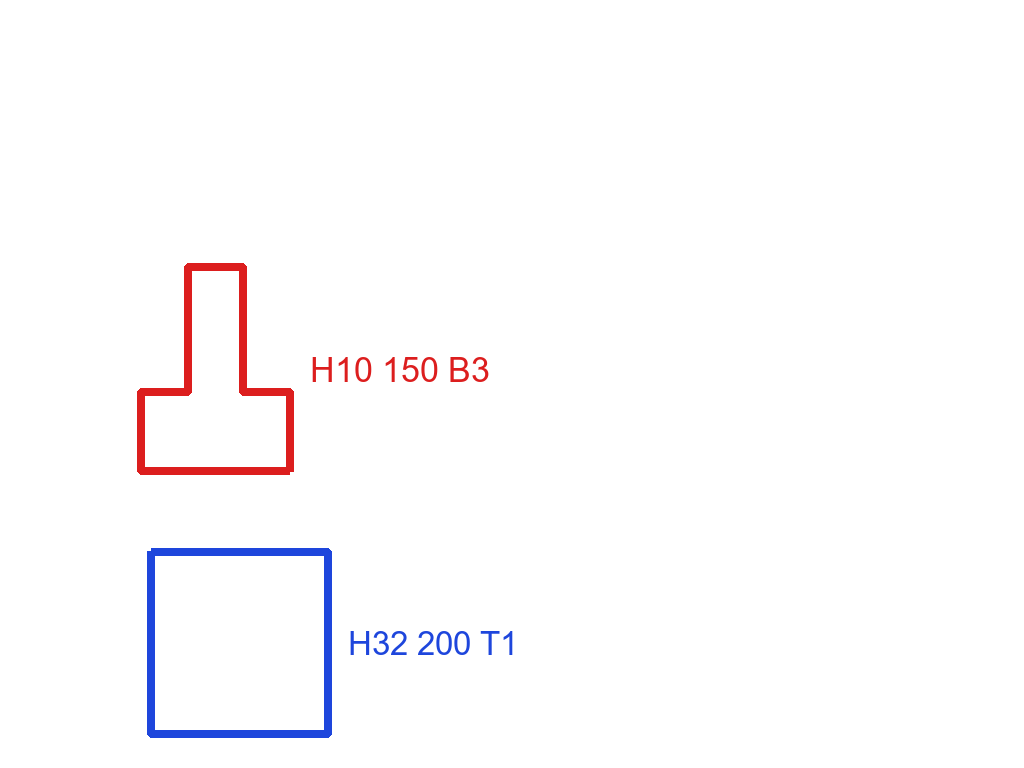shape: (146, 546, 334, 741), (135, 261, 296, 477)
text: (308, 355, 492, 384), (346, 629, 520, 657)
